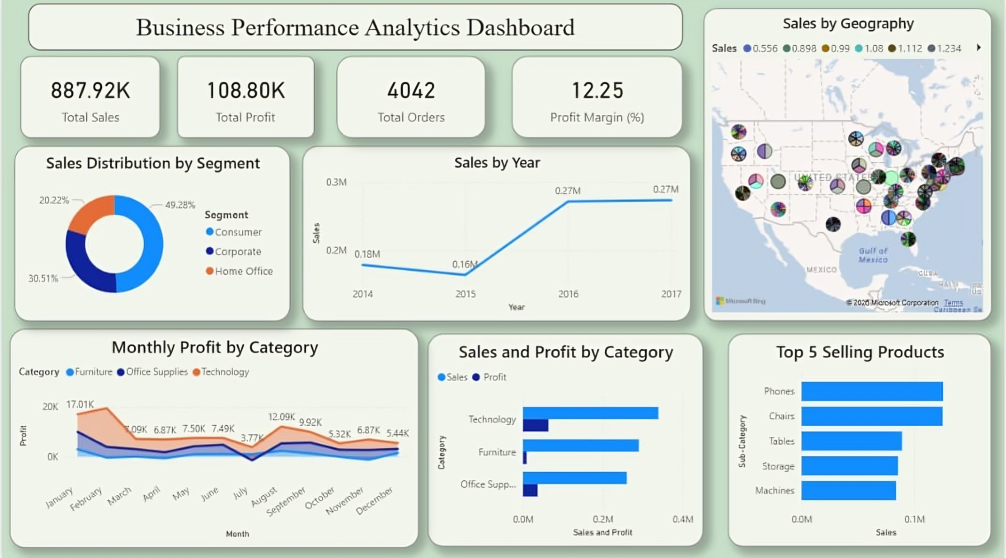

The page's visual inventory and layout, read from the dashboard file:
{"tool":"powerbi","page":{"name":"Page 1","canvas":[1280,720],"ordinal":0},"visuals":[{"type":"lineChart","title":"Sales by Year","fields":{"Category":["Superstore.Order Date.Variation.Date Hierarchy.Year"],"Y":["Sum(Superstore.Sales)"]},"box":[384,192,496,224],"z":0},{"type":"clusteredBarChart","title":"Sales and Profit by Category","fields":{"Y":["Sum(Superstore.Sales)","Sum(Superstore.Profit)"],"Category":["Superstore.Category"]},"box":[544,432,352,272],"z":1000},{"type":"clusteredBarChart","title":"Top 5 Selling Products","fields":{"Category":["Superstore.Sub-Category"],"Y":["Sum(Superstore.Sales)"]},"box":[928,432,336,272],"z":2000},{"type":"stackedAreaChart","title":"Monthly Profit by Category","fields":{"Category":["Superstore.Order Date.Variation.Date Hierarchy.Month"],"Y":["Sum(Superstore.Profit)"],"Series":["Superstore.Category"]},"box":[9.7,425.9,522.4,279.9],"z":3000},{"type":"map","title":"Sales by Geography","fields":{"Category":["Superstore.State"],"Series":["Superstore.Sales"]},"box":[896,16,368,400],"z":4000},{"type":"card","fields":{"Values":["Sum(Superstore.Sales)"]},"box":[24.1,77.2,178.6,105],"z":5000},{"type":"card","fields":{"Values":["CountNonNull(Superstore.Order ID)"]},"box":[427.1,77.2,190.6,105],"z":6000},{"type":"card","fields":{"Values":["Sum(Superstore.Profit)"]},"box":[223.2,77.2,174.9,105],"z":7000},{"type":"card","fields":{"Values":["Superstore.Profit Margin (%)"]},"box":[651.5,77.2,218.4,105],"z":8000},{"type":"donutChart","title":"Sales Distribution by Segment","fields":{"Category":["Superstore.Segment"],"Y":["Sum(Superstore.Sales)"]},"box":[16,192,352,224],"z":9000},{"type":"textbox","box":[33.8,9.7,836.1,60],"z":10000}]}

Visuals, with their boxes in screenshot pixels (x1, y1, x2, y2), scaled from the page's 1280x720 canvas onto the 1006x558 screenshot:
"Sales by Year" lineChart: box=[302, 149, 692, 322]
"Sales and Profit by Category" clusteredBarChart: box=[428, 335, 704, 546]
"Top 5 Selling Products" clusteredBarChart: box=[729, 335, 993, 546]
"Monthly Profit by Category" stackedAreaChart: box=[8, 330, 418, 547]
"Sales by Geography" map: box=[704, 12, 993, 322]
card - Sum(Superstore.Sales): box=[19, 60, 159, 141]
card - CountNonNull(Superstore.Order ID): box=[336, 60, 485, 141]
card - Sum(Superstore.Profit): box=[175, 60, 313, 141]
card - Superstore.Profit Margin (%): box=[512, 60, 684, 141]
"Sales Distribution by Segment" donutChart: box=[13, 149, 289, 322]
textbox: box=[27, 8, 684, 54]
